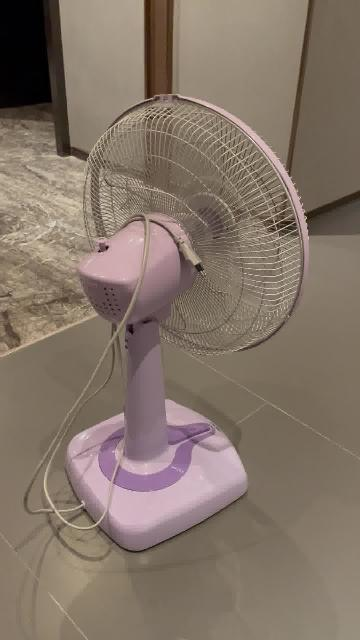Fan: (64, 93, 310, 555)
